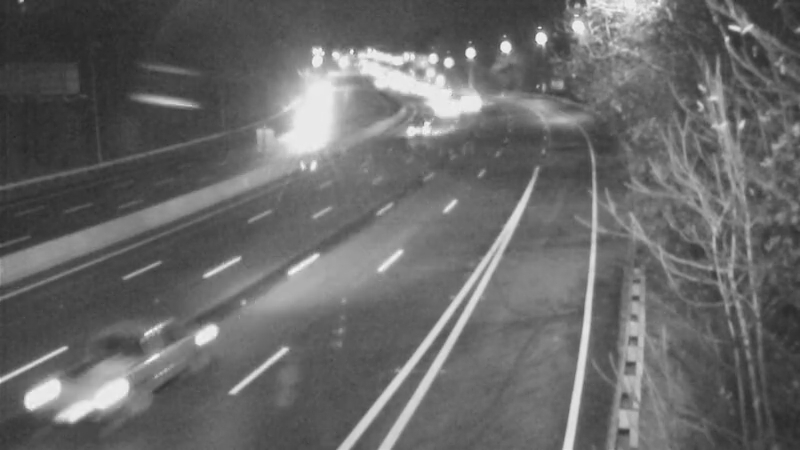vehicle: (60, 307, 170, 417), (445, 77, 495, 127), (422, 86, 472, 136), (394, 103, 444, 153), (264, 121, 314, 171)
